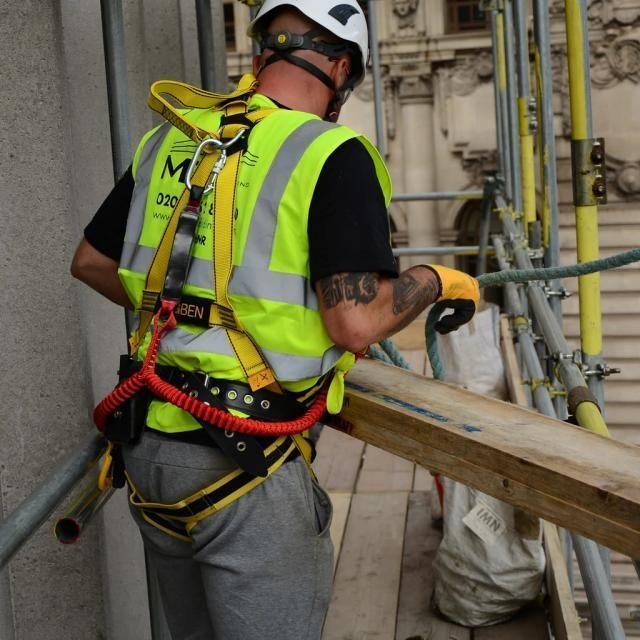Arnes_seguridad: (101, 78, 343, 537)
